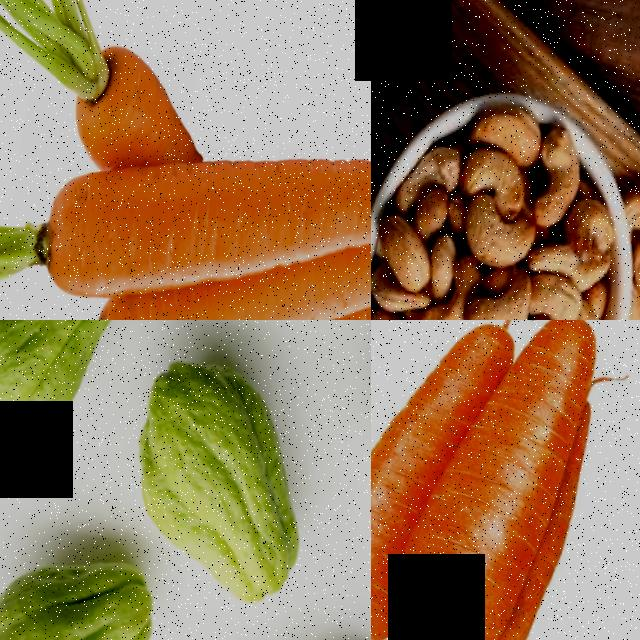carrot: (39, 85, 371, 307), (386, 320, 610, 640), (0, 0, 214, 180), (371, 320, 461, 640), (74, 231, 371, 320)
cashew: (521, 119, 594, 238), (449, 148, 541, 216), (458, 95, 557, 156), (445, 262, 548, 320), (458, 208, 543, 272), (371, 216, 437, 294), (618, 235, 640, 320), (614, 171, 640, 241)
chayote: (70, 332, 371, 617), (0, 320, 175, 461), (0, 532, 199, 640)
